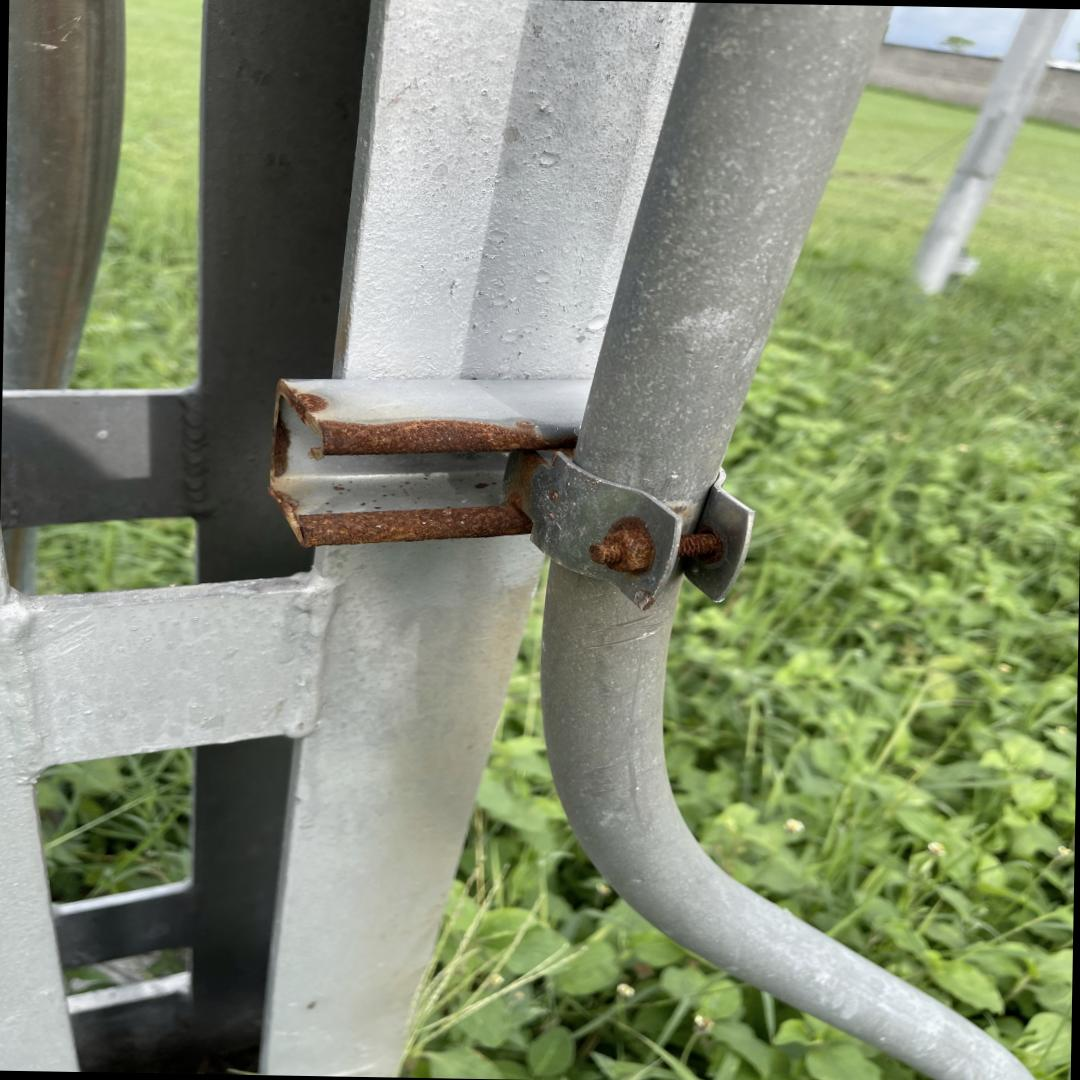Metal: (0, 0, 1035, 1080)
Metal corroido: (269, 381, 578, 548), (678, 518, 742, 595), (588, 516, 656, 577)
